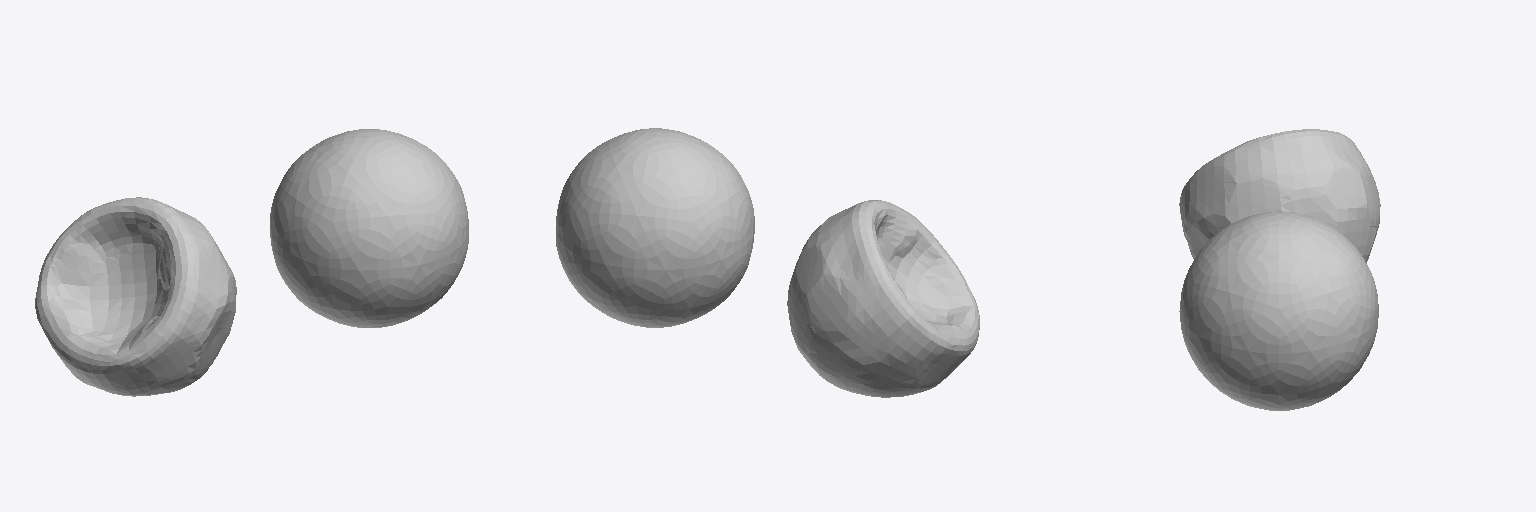
Rendered from football_4k.obj.
The picture shows the model from 3 angles: view 1: azimuth 30°, elevation 25°; view 2: azimuth 150°, elevation 25°; view 3: azimuth 270°, elevation 25°; orthographic projection.
Visible parts, largest first — view 1: football_inflated, football_deflated; view 2: football_inflated, football_deflated; view 3: football_inflated, football_deflated.
Boxes of the visible parts, x1=… form: football_inflated: x1=270, y1=129, x2=468, y2=327; football_deflated: x1=35, y1=197, x2=236, y2=396; football_inflated: x1=556, y1=128, x2=754, y2=327; football_deflated: x1=787, y1=200, x2=979, y2=397; football_inflated: x1=1179, y1=211, x2=1378, y2=410; football_deflated: x1=1179, y1=129, x2=1380, y2=262.
Bounding box in the file's own units: 0.5089 × 0.2219 × 0.2222.